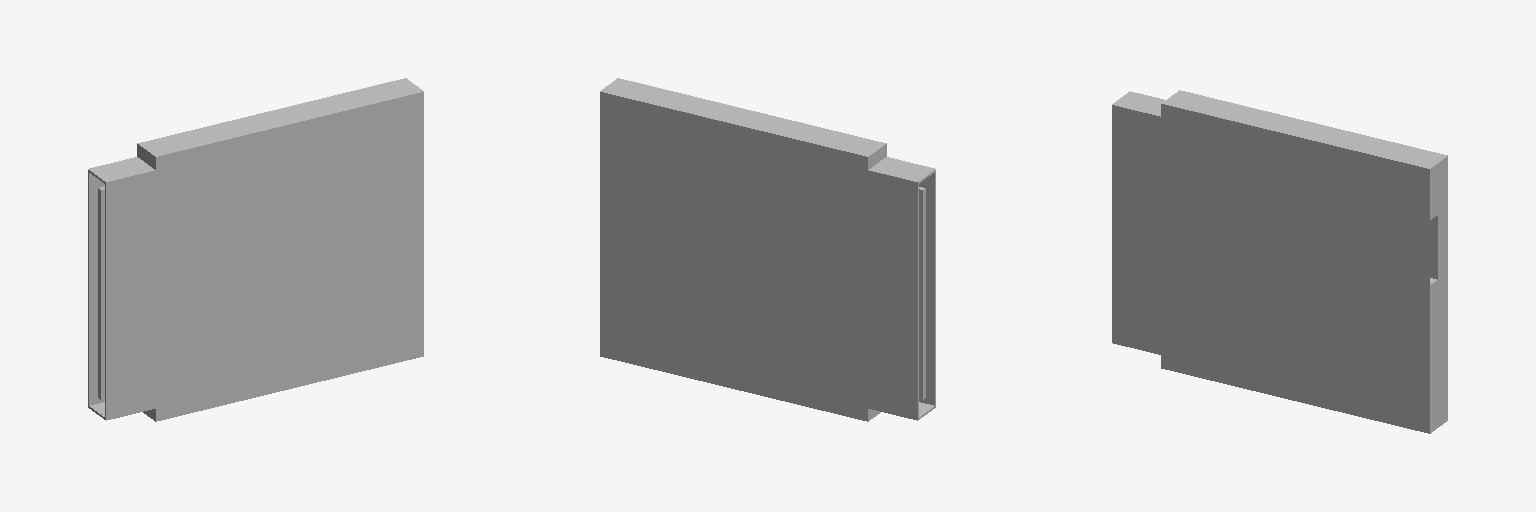
The model's file is NES_Cartridge.obj.
3 renders of one model, left to right at view 1: azimuth 30°, elevation 25°; view 2: azimuth 150°, elevation 25°; view 3: azimuth 330°, elevation 25°, orthographic.
Parts seen in each view (by area): view 1: NES_Cartridge; view 2: NES_Cartridge; view 3: NES_Cartridge.
Part boxes in pixels (bbox=[...]): NES_Cartridge: bbox=[88, 78, 423, 421]; NES_Cartridge: bbox=[600, 78, 935, 421]; NES_Cartridge: bbox=[1112, 90, 1447, 433].
Size of the model in its own units: 25.16 by 20.01 by 2.53.